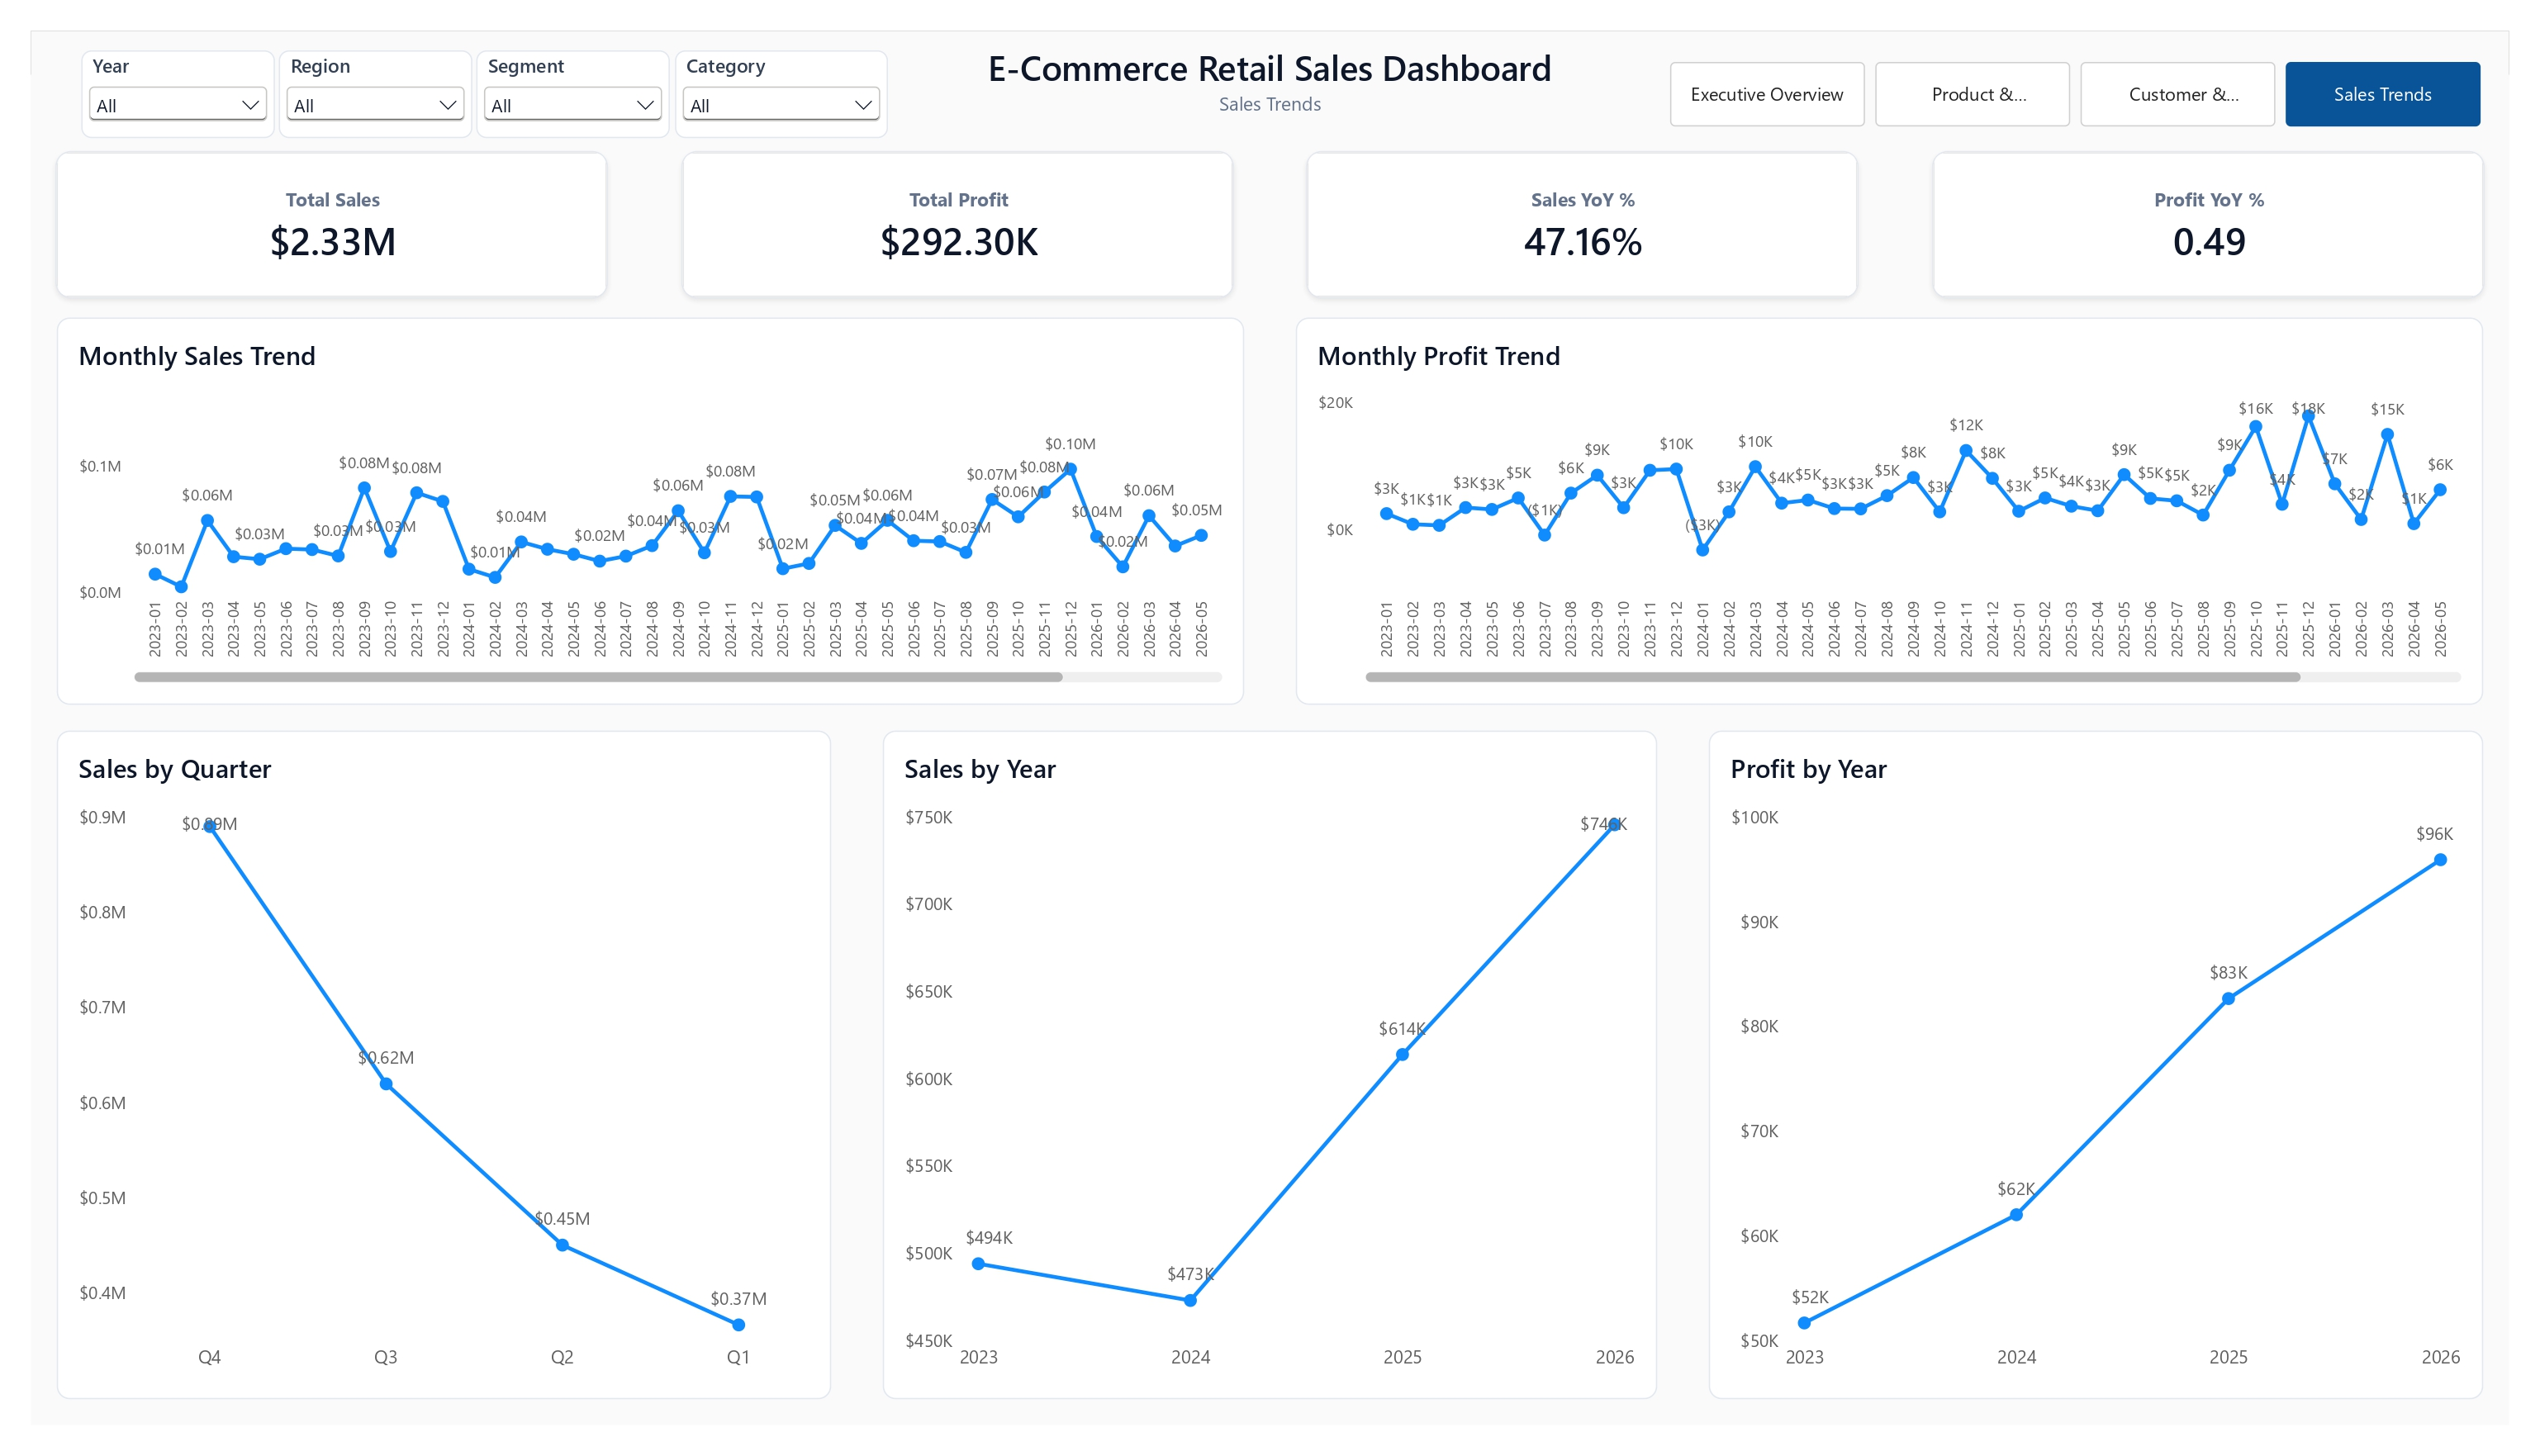

Layout of this report page (visuals, bound fields, positions):
{"tool":"powerbi","page":{"name":"Sales Trends","canvas":[1920,1080],"ordinal":3},"visuals":[{"type":"textbox","box":[667.8,10,584.5,72],"z":0},{"type":"slicer","fields":{"Values":["DateTable.Year"]},"box":[38.6,14.7,150,68.6],"z":1000},{"type":"slicer","fields":{"Values":["superstore_cleaned.region"]},"box":[191.9,15,150,68],"z":2000},{"type":"slicer","fields":{"Values":["superstore_cleaned.segment"]},"box":[345.2,15,150,68],"z":3000},{"type":"slicer","fields":{"Values":["superstore_cleaned.category"]},"box":[498.6,15.4,165.7,67.1],"z":4000},{"type":"cardVisual","fields":{"Data":["_Measures.Profit YoY %"]},"box":[1473,93.3,428,114],"z":5000,"group":"g1"},{"type":"cardVisual","fields":{"Data":["_Measures.Sales YoY %"]},"box":[988.3,93.3,428,114],"z":6000,"group":"g1"},{"type":"cardVisual","fields":{"Data":["_Measures.Total Profit"]},"box":[503.7,93.3,428,114],"z":7000,"group":"g1"},{"type":"cardVisual","fields":{"Data":["_Measures.Total Sales"]},"box":[19,93.3,428,114],"z":8000,"group":"g1"},{"type":"group","id":"g1","title":"Group 1","box":[19,93.3,1882,114],"z":8001},{"type":"lineChart","title":"Monthly Sales Trend","fields":{"Category":["DateTable.Year Month"],"Y":["_Measures.Total Sales"]},"box":[20,222,920,300],"z":8002},{"type":"lineChart","title":"Monthly Profit Trend","fields":{"Category":["DateTable.Year Month"],"Y":["_Measures.Total Profit"]},"box":[980,222,920,300],"z":8003},{"type":"lineChart","title":"Sales by Quarter","fields":{"Category":["DateTable.Quarter"],"Y":["_Measures.Total Sales"]},"box":[20,542,600,518],"z":8004},{"type":"lineChart","title":"Sales by Year","fields":{"Category":["DateTable.Year"],"Y":["_Measures.Total Sales"]},"box":[660,542,600,518],"z":8005},{"type":"lineChart","title":"Profit by Year","fields":{"Category":["DateTable.Year"],"Y":["_Measures.Total Profit"]},"box":[1300,542,600,518],"z":8006},{"type":"pageNavigator","box":[1270,24,630,50],"z":8007}]}

Visuals, with their boxes on the page's 1920x1080 design canvas (x1, y1, x2, y2). These are canvas units, not pixel positions in the 2540x1456 screenshot, which may show the page scaled, cropped or inside an application window:
textbox: Rect(668, 10, 1252, 82)
slicer - DateTable.Year: Rect(39, 15, 189, 83)
slicer - superstore_cleaned.region: Rect(192, 15, 342, 83)
slicer - superstore_cleaned.segment: Rect(345, 15, 495, 83)
slicer - superstore_cleaned.category: Rect(499, 15, 664, 82)
cardVisual - _Measures.Profit YoY %: Rect(1473, 93, 1901, 207)
cardVisual - _Measures.Sales YoY %: Rect(988, 93, 1416, 207)
cardVisual - _Measures.Total Profit: Rect(504, 93, 932, 207)
cardVisual - _Measures.Total Sales: Rect(19, 93, 447, 207)
"Group 1" group: Rect(19, 93, 1901, 207)
"Monthly Sales Trend" lineChart: Rect(20, 222, 940, 522)
"Monthly Profit Trend" lineChart: Rect(980, 222, 1900, 522)
"Sales by Quarter" lineChart: Rect(20, 542, 620, 1060)
"Sales by Year" lineChart: Rect(660, 542, 1260, 1060)
"Profit by Year" lineChart: Rect(1300, 542, 1900, 1060)
pageNavigator: Rect(1270, 24, 1900, 74)
